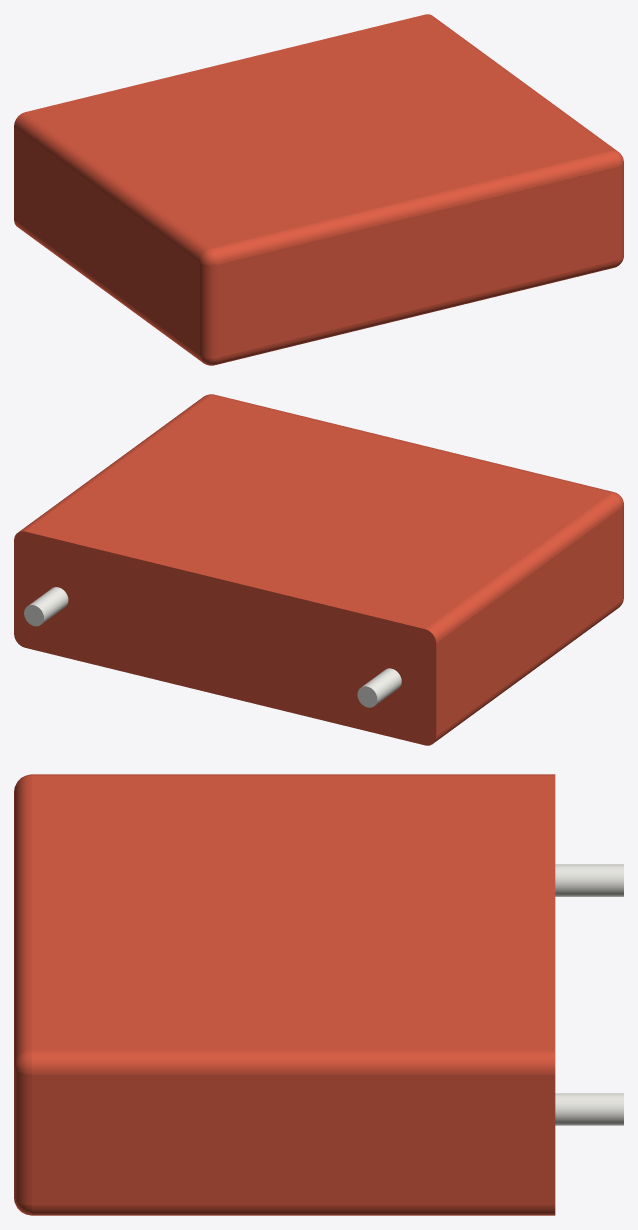
File: C_Rect_L19.0mm_W5.0mm_P15.00mm_MKS4.glb
The picture shows the model from 3 angles, top to bottom: view 1: azimuth 30°, elevation 25°; view 2: azimuth 150°, elevation 25°; view 3: azimuth 270°, elevation 25°; orthographic projection. The views are drawn at different scales.
Visible parts, largest first — view 1: Shape_IndexedFaceSet.009, Shape_IndexedFaceSet.007, Shape_IndexedFaceSet, Shape_IndexedFaceSet.017, Shape_IndexedFaceSet.004, Shape_IndexedFaceSet.015, Shape_IndexedFaceSet.002, Shape_IndexedFaceSet.001, Shape_IndexedFaceSet.011, Shape_IndexedFaceSet.016; view 2: Shape_IndexedFaceSet.009, Shape_IndexedFaceSet.003, Shape_IndexedFaceSet, Shape_IndexedFaceSet.004, Shape_IndexedFaceSet.001, Shape_IndexedFaceSet.011, Shape_IndexedFaceSet.017, Shape_IndexedFaceSet.013, Shape_IndexedFaceSet.014; view 3: Shape_IndexedFaceSet.009, Shape_IndexedFaceSet.012, Shape_IndexedFaceSet.011, Shape_IndexedFaceSet.010, Shape_IndexedFaceSet.017, Shape_IndexedFaceSet.016, Shape_IndexedFaceSet.013, Shape_IndexedFaceSet.014, Shape_IndexedFaceSet.004.
Boxes of the visible parts, x1,y1,x2,y2 form: Shape_IndexedFaceSet.009: (25, 14, 610, 248); Shape_IndexedFaceSet.007: (217, 167, 617, 357); Shape_IndexedFaceSet: (14, 127, 199, 355); Shape_IndexedFaceSet.017: (211, 151, 617, 264); Shape_IndexedFaceSet.004: (14, 112, 210, 262); Shape_IndexedFaceSet.015: (215, 260, 617, 364); Shape_IndexedFaceSet.002: (200, 263, 217, 358); Shape_IndexedFaceSet.001: (14, 220, 202, 362); Shape_IndexedFaceSet.011: (425, 14, 617, 151); Shape_IndexedFaceSet.016: (617, 163, 623, 259); Shape_IndexedFaceSet.009: (25, 395, 610, 628); Shape_IndexedFaceSet.003: (14, 531, 436, 745); Shape_IndexedFaceSet: (436, 507, 622, 735); Shape_IndexedFaceSet.004: (425, 493, 622, 642); Shape_IndexedFaceSet.001: (433, 600, 622, 743); Shape_IndexedFaceSet.011: (19, 395, 210, 531); Shape_IndexedFaceSet.017: (211, 394, 612, 492); Shape_IndexedFaceSet.013: (362, 668, 401, 705); Shape_IndexedFaceSet.014: (29, 587, 68, 623); Shape_IndexedFaceSet.009: (32, 776, 555, 1050); Shape_IndexedFaceSet.012: (32, 1074, 555, 1205); Shape_IndexedFaceSet.011: (32, 1050, 555, 1074); Shape_IndexedFaceSet.010: (32, 1205, 555, 1215); Shape_IndexedFaceSet.017: (14, 776, 31, 1065); Shape_IndexedFaceSet.016: (14, 1068, 31, 1205); Shape_IndexedFaceSet.013: (555, 864, 623, 896); Shape_IndexedFaceSet.014: (555, 1093, 623, 1125); Shape_IndexedFaceSet.004: (32, 774, 555, 775).
Bounding box in the file's own units: 7.48 × 1.97 × 6.65.
